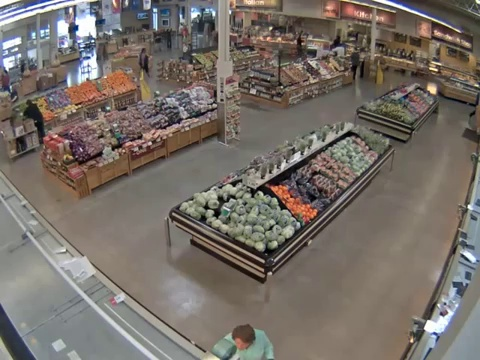face: (234, 334, 251, 350)
